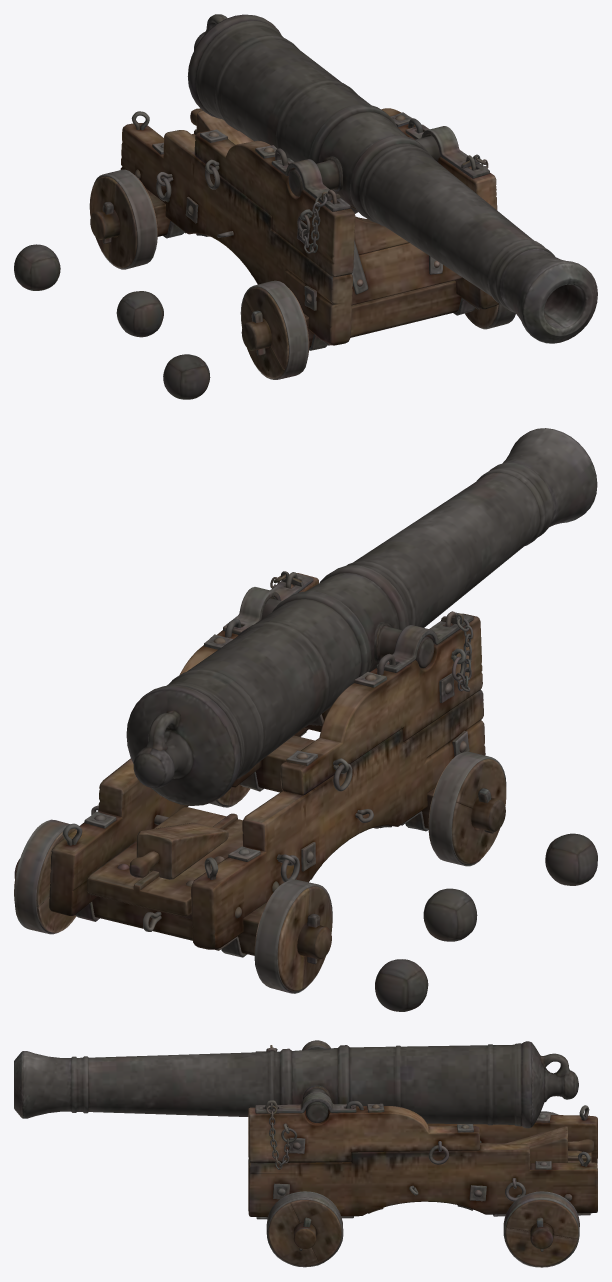
Rendered from cannon_01.glb.
The picture shows the model from 3 angles, top to bottom: view 1: azimuth 30°, elevation 25°; view 2: azimuth 150°, elevation 25°; view 3: azimuth 270°, elevation 25°; orthographic projection. The views are drawn at different scales.
Visible parts, largest first — view 1: cannon_01_frame, cannon_01_barrel, cannon_01_wheel_02, cannon_01_wheel_01, cannon_01_ball_02, cannon_01_ball_03, cannon_01_ball_01, cannon_01_pusherblock, cannon_01_wheel_03; view 2: cannon_01_frame, cannon_01_barrel, cannon_01_wheel_01, cannon_01_wheel_02, cannon_01_wheel_04, cannon_01_pusherblock, cannon_01_ball_02, cannon_01_ball_03, cannon_01_ball_01; view 3: cannon_01_barrel, cannon_01_frame, cannon_01_wheel_04, cannon_01_wheel_03, cannon_01_pusherblock.
Part boxes in pixels (x1,y1,x2,y2): cannon_01_frame: [90, 108, 498, 355]; cannon_01_barrel: [187, 14, 597, 343]; cannon_01_wheel_02: [89, 169, 157, 269]; cannon_01_wheel_01: [240, 280, 309, 379]; cannon_01_ball_02: [116, 291, 163, 337]; cannon_01_ball_03: [14, 244, 60, 290]; cannon_01_ball_01: [163, 354, 210, 399]; cannon_01_pusherblock: [190, 108, 253, 144]; cannon_01_wheel_03: [465, 304, 515, 329]; cannon_01_frame: [14, 571, 505, 964]; cannon_01_barrel: [126, 428, 597, 805]; cannon_01_wheel_01: [428, 752, 506, 866]; cannon_01_wheel_02: [254, 879, 332, 993]; cannon_01_wheel_04: [14, 819, 76, 934]; cannon_01_pusherblock: [129, 822, 228, 879]; cannon_01_ball_02: [423, 888, 477, 941]; cannon_01_ball_03: [375, 959, 428, 1011]; cannon_01_ball_01: [545, 833, 597, 885]; cannon_01_barrel: [14, 1041, 578, 1128]; cannon_01_frame: [248, 1040, 597, 1251]; cannon_01_wheel_04: [503, 1191, 579, 1267]; cannon_01_wheel_03: [266, 1191, 343, 1267]; cannon_01_pusherblock: [504, 1126, 593, 1162].
Size of the model in its own units: 1.23 by 0.7759 by 2.3.
1 material, 1 textured.
